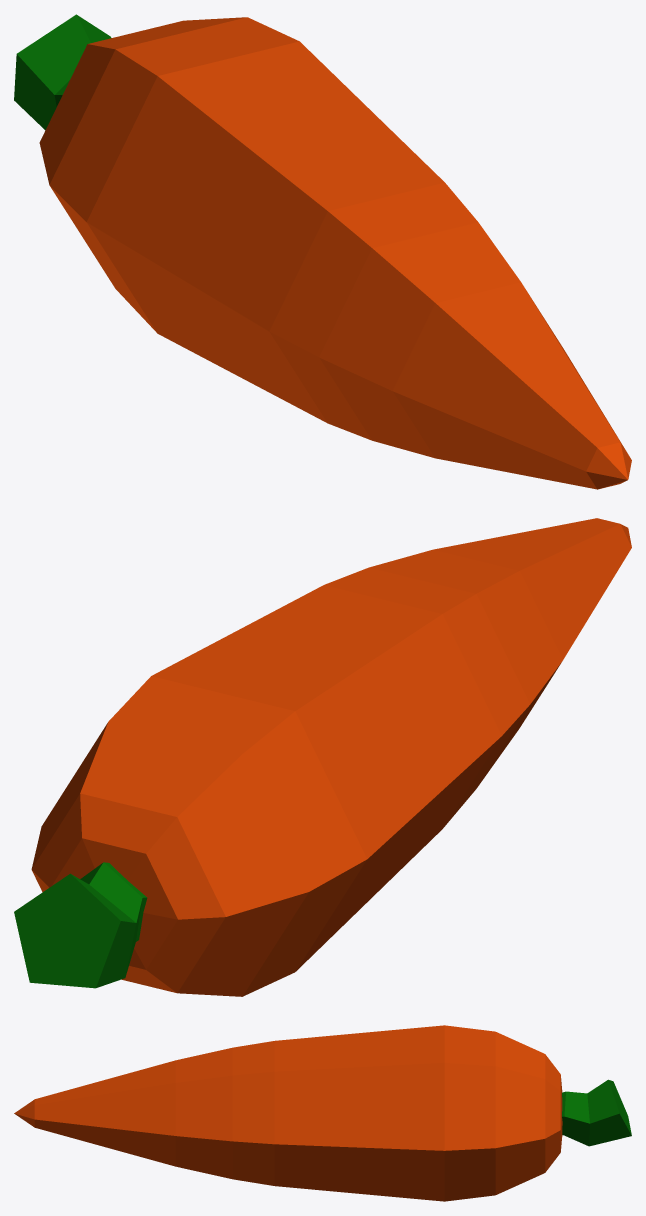
File: Ingredients_Carrot.fbx
3 renders of one model, top to bottom at view 1: azimuth 30°, elevation 25°; view 2: azimuth 150°, elevation 25°; view 3: azimuth 270°, elevation 25°, orthographic. The views are drawn at different scales.
Parts seen in each view (by area): view 1: carrot; view 2: carrot; view 3: carrot.
Boxes of the visible parts, x1,y1,x2,y2 form: carrot: (14, 14, 631, 489); carrot: (14, 518, 631, 996); carrot: (14, 1025, 631, 1201).
Size of the model in its own units: 4.43 by 3.83 by 15.47.
